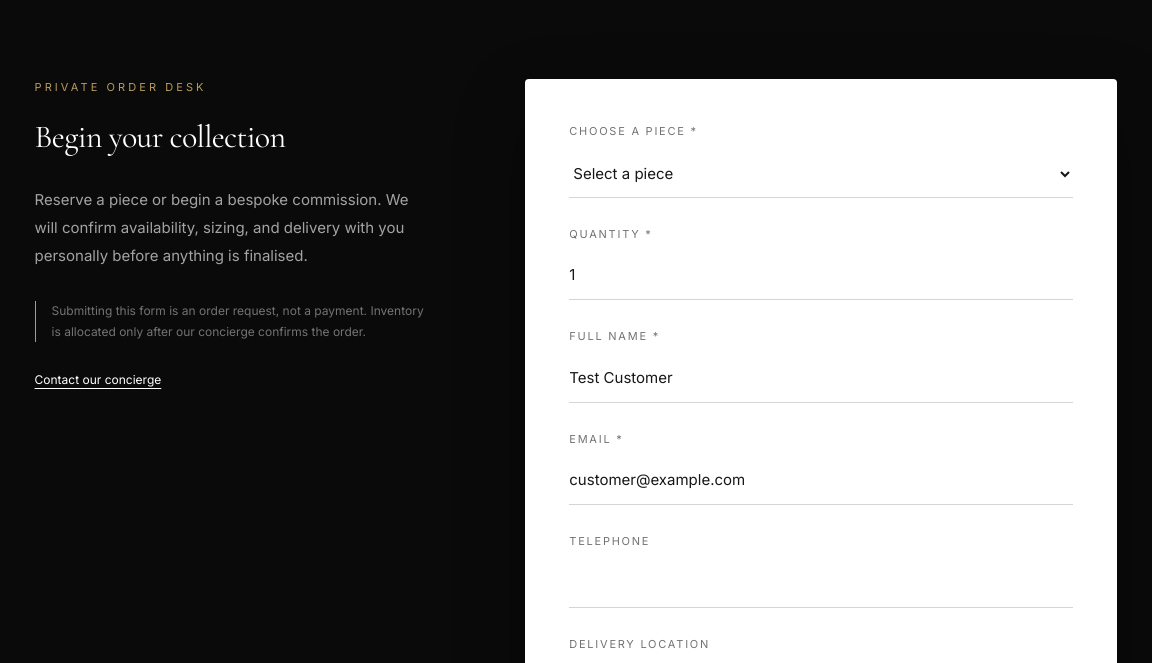
it: homepage enquiries › requires a deliberate catalogue selection and submits that SKU and quantity
Select "Bespoke consultation · ZAR-BES-001" in the dropdown labelled "Choose a piece *" at (821, 174), box left=569, top=150, right=1074, bottom=198
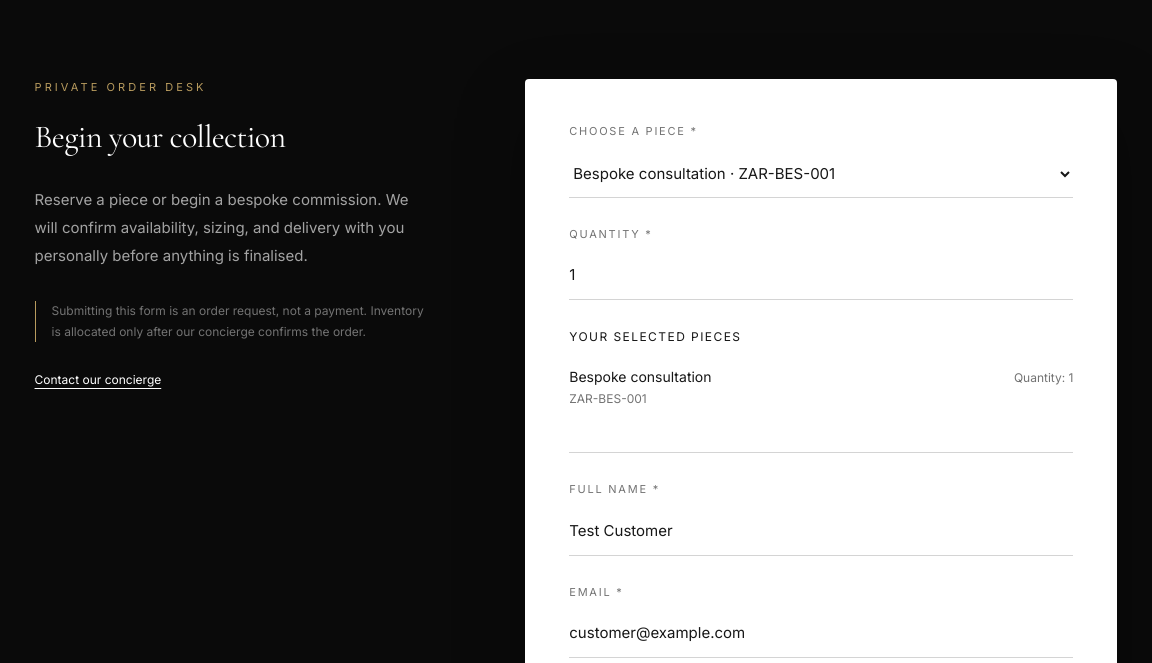
Replace the text in the number field labelled "Quantity *" with "2" at (821, 276), box left=569, top=252, right=1074, bottom=300
(page scrolled)
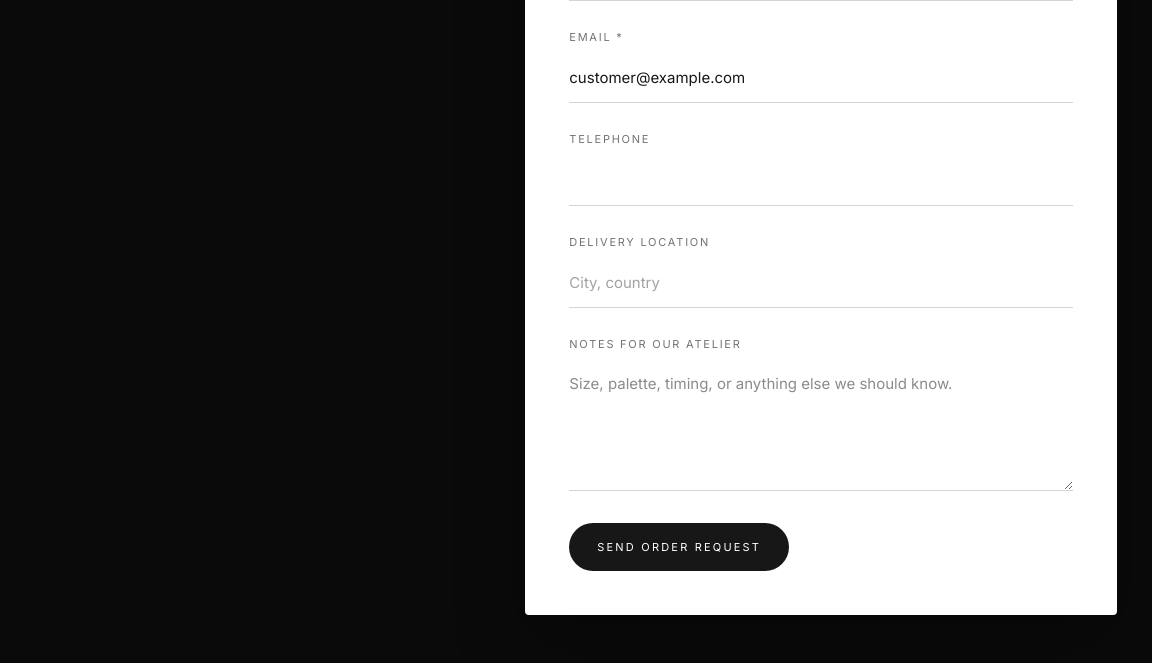
Click the button "Send order request".
click(679, 547)  # box left=569, top=523, right=789, bottom=571
(page scrolled)
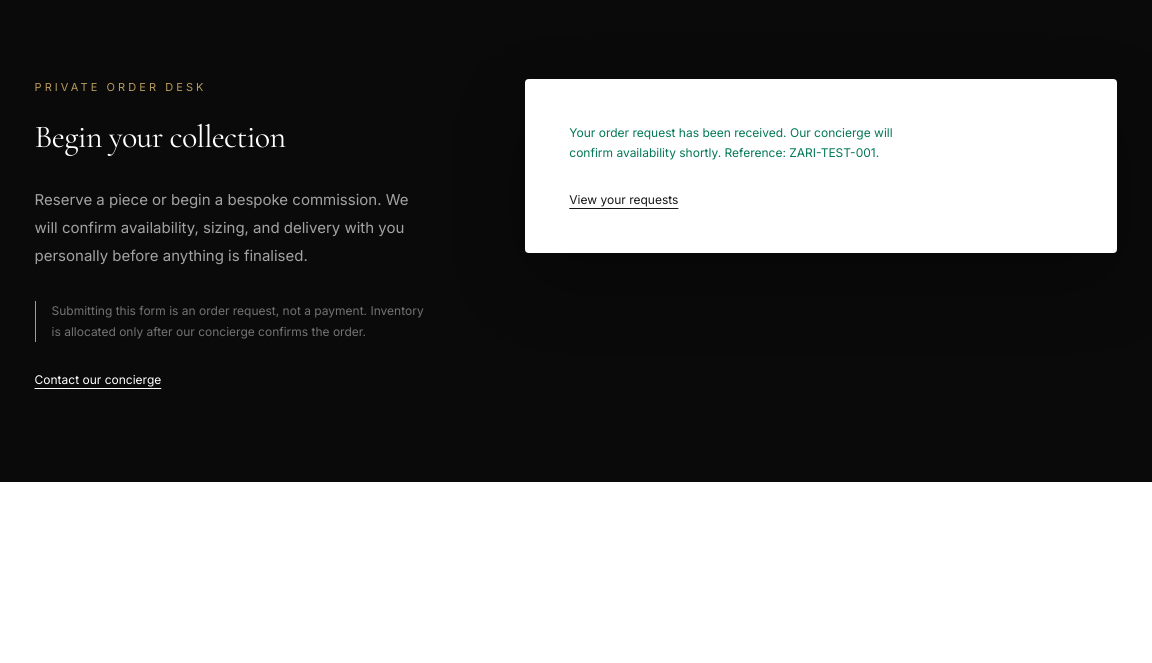
Expected: the text "Reference: ZARI-TEST-001" is shown, left=569, top=125, right=893, bottom=160
